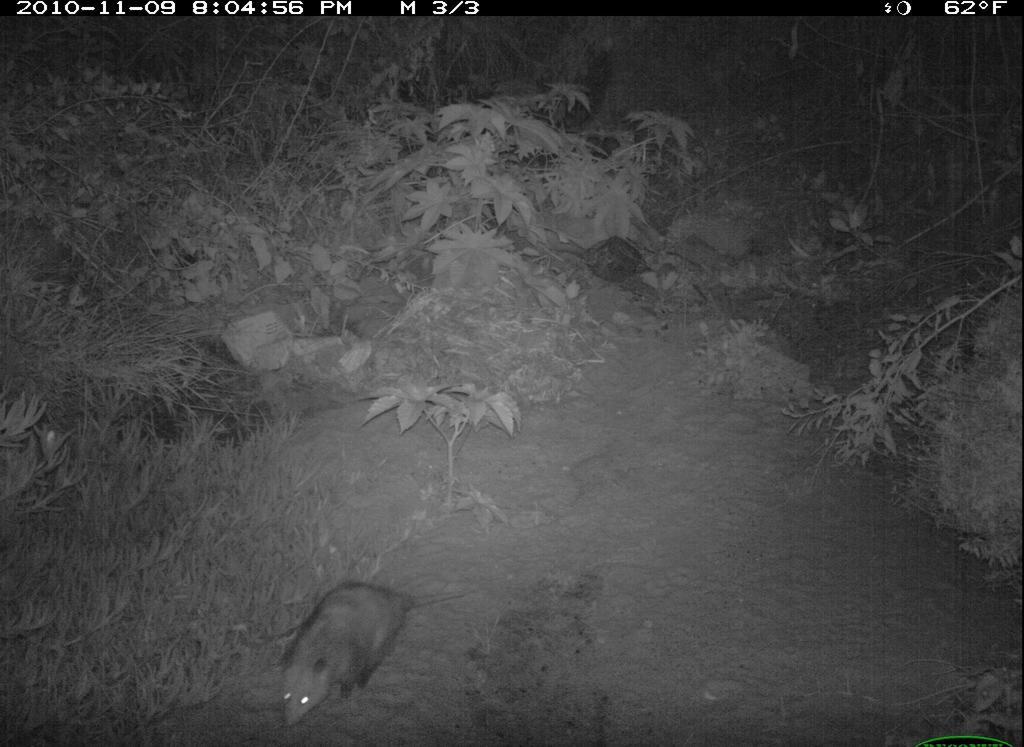opossum: (265, 542, 436, 737)
